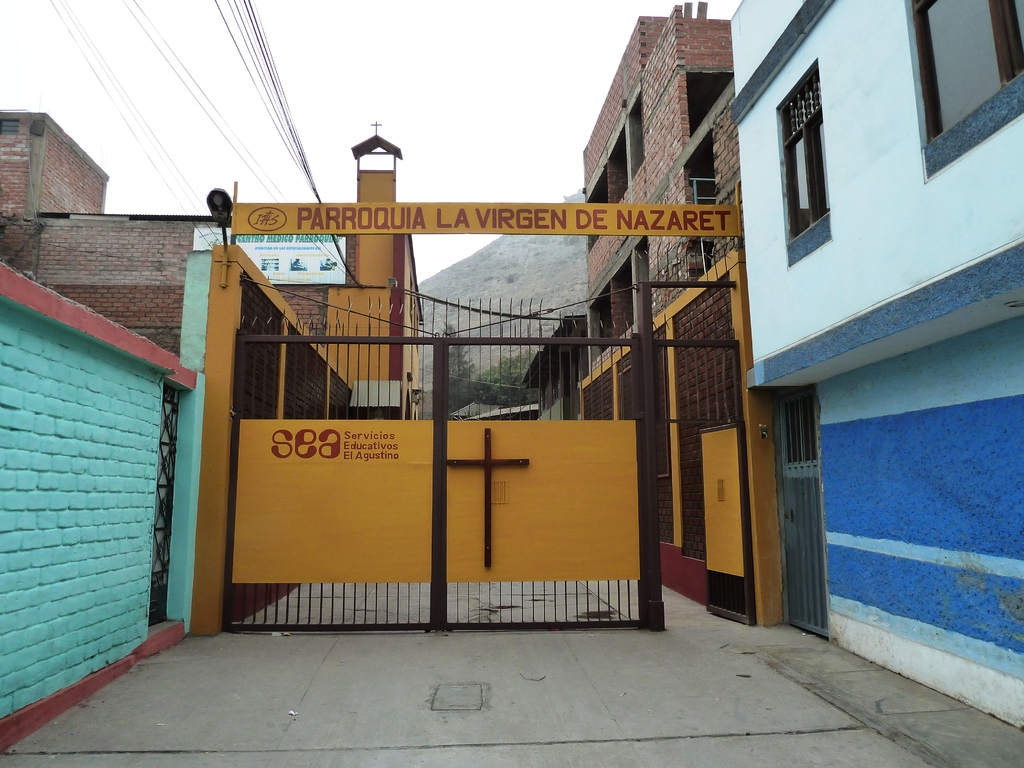Door: (216, 136, 719, 639)
